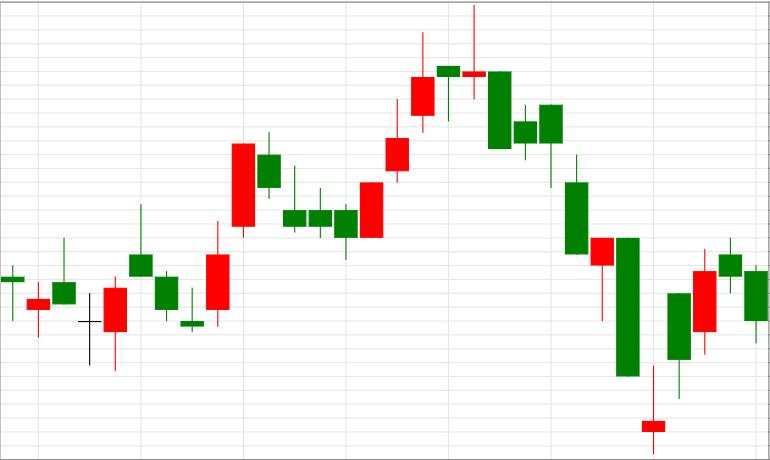hammer_rise: (487, 71, 613, 322)
three_white_soldiers_rise: (258, 32, 434, 260)
